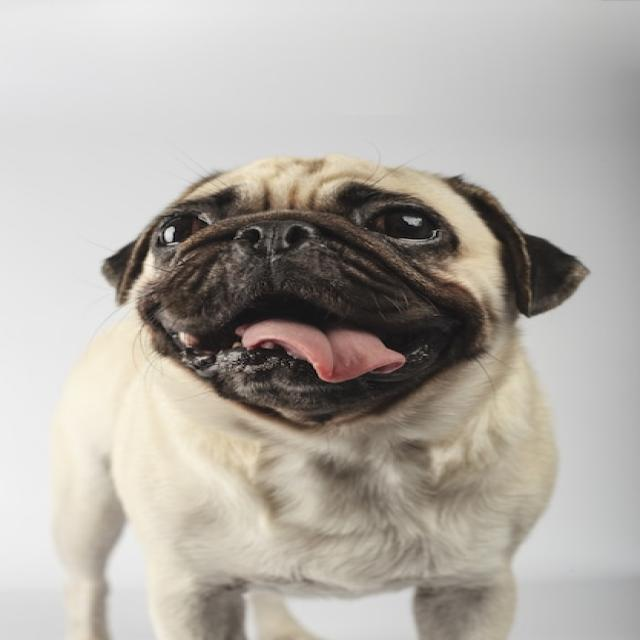Dog: (46, 156, 589, 640)
